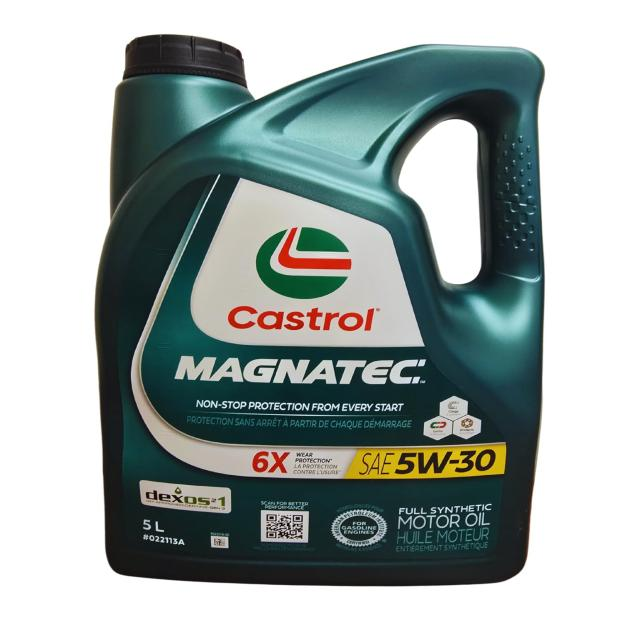motor_oil: (90, 26, 547, 588)
